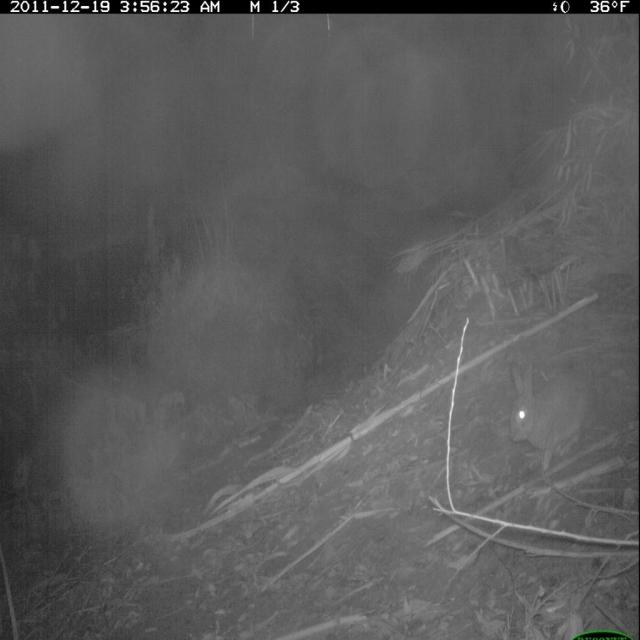rabbit: (504, 354, 602, 480)
